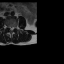CCS_stenosis: (10, 25, 12, 32)
LFS_normal: (14, 25, 16, 30)
LLS_normal: (12, 25, 14, 31)
RFS_stenosis: (8, 24, 9, 29)
RLS_stenosis: (9, 25, 10, 31)
